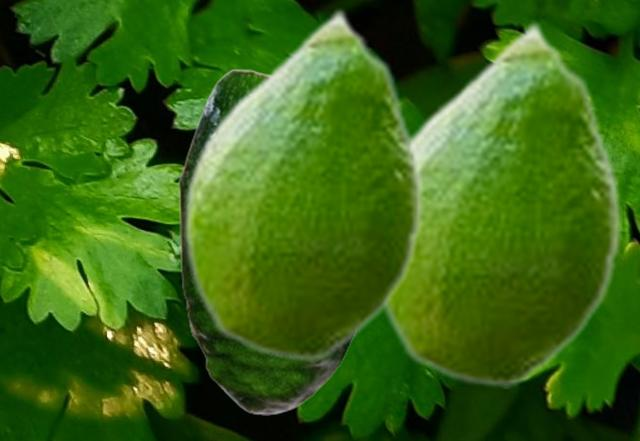avocado: (379, 19, 621, 387), (182, 6, 423, 361), (178, 68, 356, 414)
